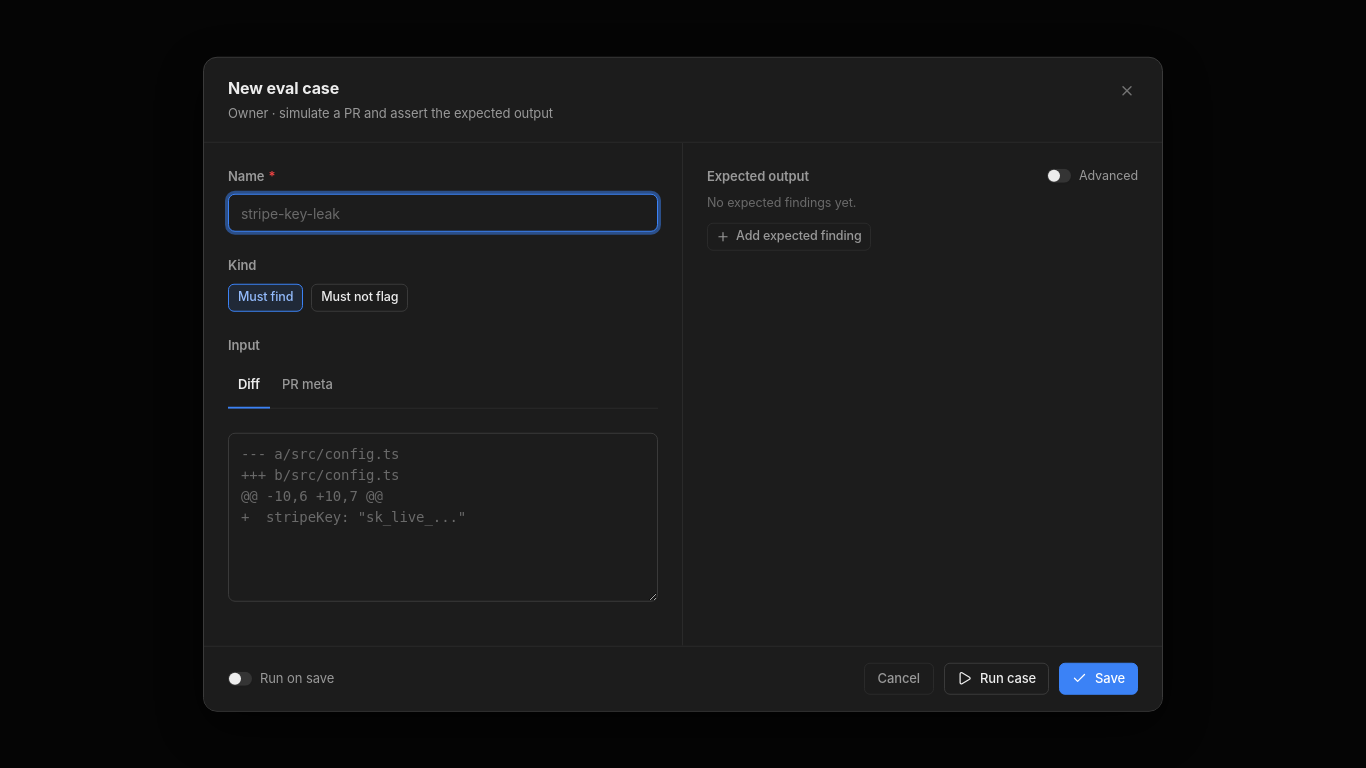
Test: Case Editor: structured must find form › C-44: a must not flag case lists forbidden locations (file, start, end only) and labels an empty list as asserting no findings
The width and height of the screenshot is (1366, 768).
Click the radio button labelled "Must not flag": coordinates (360, 297) [311, 283, 408, 311]
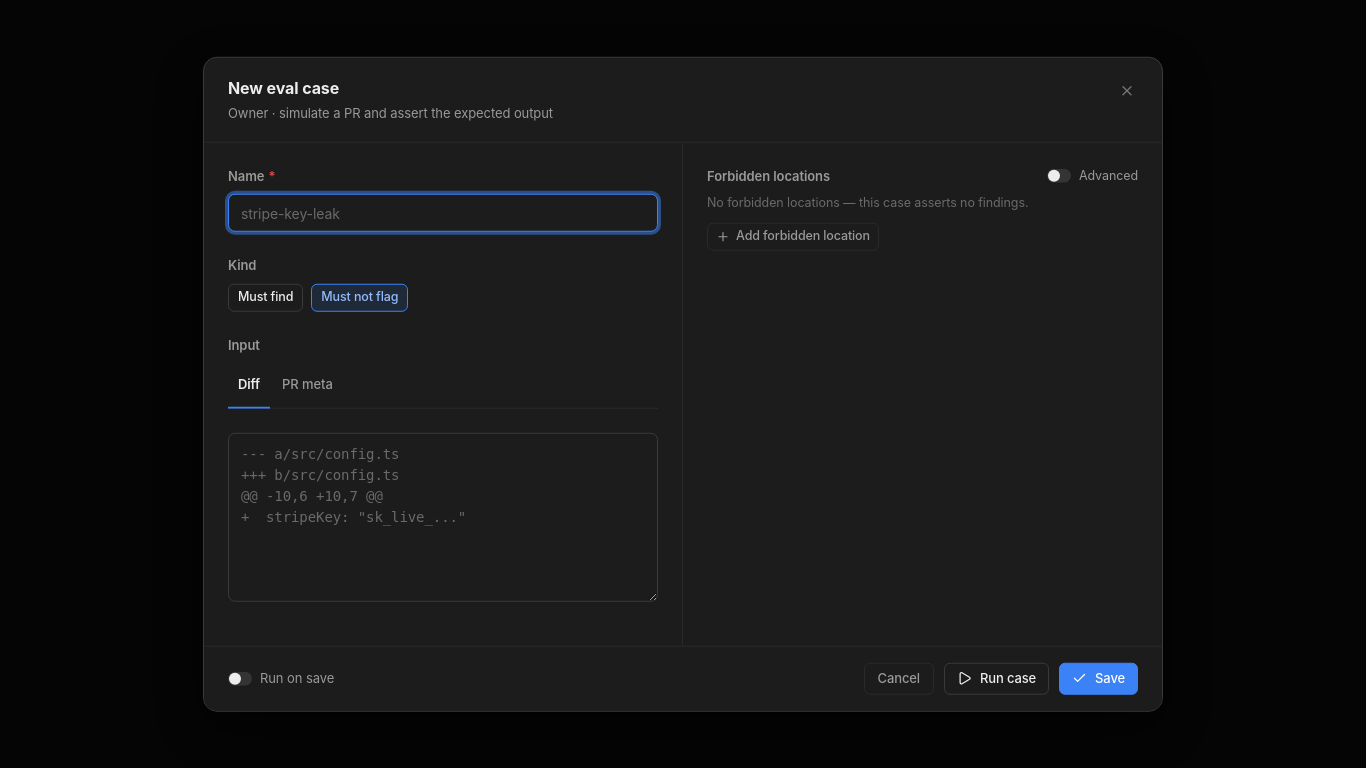
Expected: the text "Forbidden locations" is shown, [707, 166, 830, 186]
Expected: the text "No forbidden locations — this case asserts no findings." is shown, [707, 195, 1028, 210]
Click the button "Add forbidden location": coordinates (793, 236) [707, 222, 879, 250]
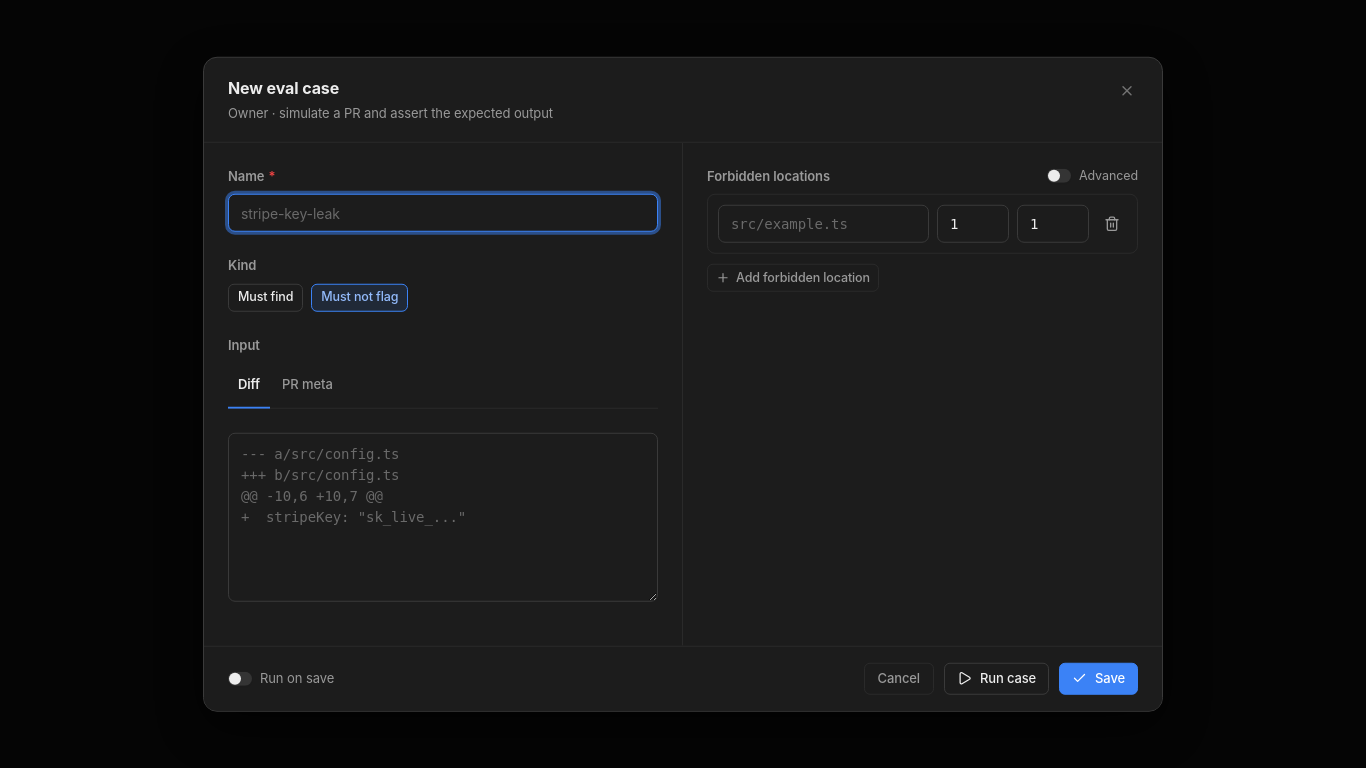
Expected: the field named "File" is shown, [718, 205, 929, 243]
Expected: the field named "Start line" is shown, [937, 205, 1009, 243]
Expected: the field named "End line" is shown, [1017, 205, 1089, 243]
